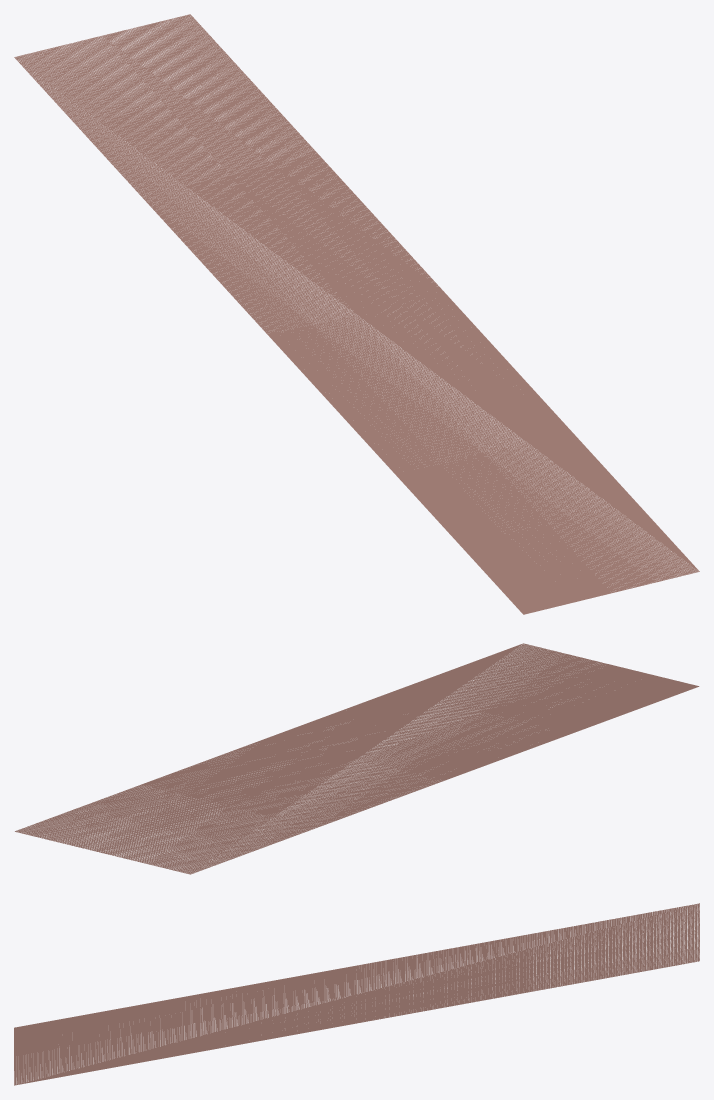
Rendered from SW_ENV_RailTunnelCeiling_TrackRise_Single_20m_Collision.fbx.
3 renders of one model, top to bottom at view 1: azimuth 30°, elevation 25°; view 2: azimuth 150°, elevation 25°; view 3: azimuth 270°, elevation 25°, orthographic. The views are drawn at different scales.
Parts seen in each view (by area): view 1: SW_ENV_RailTunnelCeiling_TrackRise_Single_20m_Collision; view 2: SW_ENV_RailTunnelCeiling_TrackRise_Single_20m_Collision; view 3: SW_ENV_RailTunnelCeiling_TrackRise_Single_20m_Collision.
Part boxes in pixels (box(x1,y1,x2,y2)): SW_ENV_RailTunnelCeiling_TrackRise_Single_20m_Collision: box(14, 14, 699, 614); SW_ENV_RailTunnelCeiling_TrackRise_Single_20m_Collision: box(15, 643, 699, 874); SW_ENV_RailTunnelCeiling_TrackRise_Single_20m_Collision: box(14, 903, 699, 1085).
Bounding box in the file's own units: 400 × 400 × 2000.
